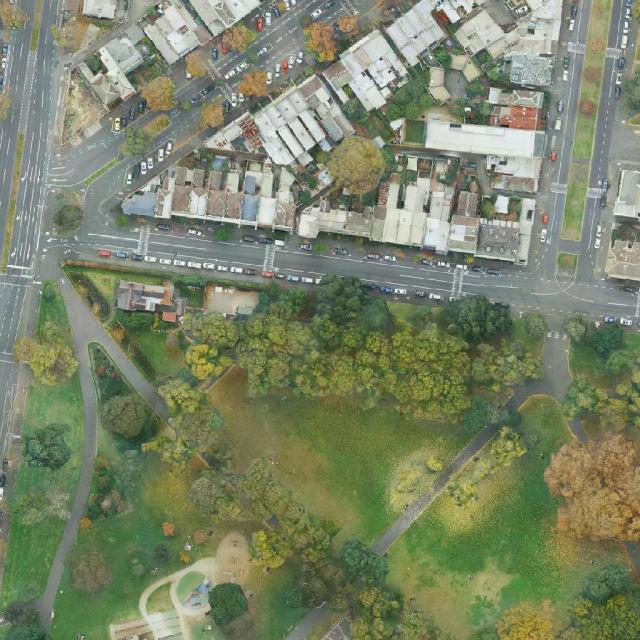building: (296, 162, 538, 264), (201, 70, 357, 204), (120, 146, 301, 231), (420, 120, 547, 194), (76, 32, 157, 112), (485, 87, 543, 131), (202, 285, 260, 319), (118, 281, 174, 312), (604, 239, 640, 281), (614, 169, 640, 218)
dryland: (33, 69, 109, 144), (45, 9, 91, 55)
greenland: (176, 256, 551, 434), (182, 340, 435, 543), (1, 278, 90, 607), (231, 485, 418, 640), (60, 243, 190, 384), (544, 353, 640, 541), (55, 339, 172, 467), (138, 375, 248, 487), (129, 447, 214, 547), (547, 305, 640, 396), (484, 389, 561, 476), (186, 459, 276, 527), (77, 454, 142, 543), (322, 130, 393, 202), (377, 67, 447, 133), (442, 289, 515, 349), (54, 537, 117, 602), (119, 533, 199, 582), (301, 13, 367, 66), (115, 102, 173, 162), (446, 77, 503, 134), (169, 274, 264, 308), (84, 269, 166, 301), (136, 330, 190, 374), (208, 581, 250, 626), (471, 43, 512, 85), (52, 189, 85, 237), (219, 17, 258, 57), (141, 76, 174, 110), (339, 95, 369, 126), (143, 433, 178, 459), (237, 70, 268, 97), (184, 49, 208, 77), (402, 119, 426, 146), (430, 44, 455, 69), (201, 104, 224, 128), (380, 143, 398, 169), (0, 92, 11, 118)
metalled_road: (37, 282, 176, 637), (368, 418, 501, 559), (528, 50, 585, 279), (272, 237, 455, 298), (505, 328, 592, 428), (40, 119, 133, 193), (460, 255, 566, 316), (68, 148, 136, 240), (245, 1, 328, 74), (543, 271, 640, 323), (147, 230, 266, 270), (284, 598, 332, 640), (161, 103, 205, 144), (297, 0, 360, 26), (579, 198, 598, 281), (565, 0, 592, 49), (204, 62, 237, 102), (171, 72, 210, 105), (609, 121, 640, 162), (79, 232, 139, 253), (213, 45, 246, 76)
